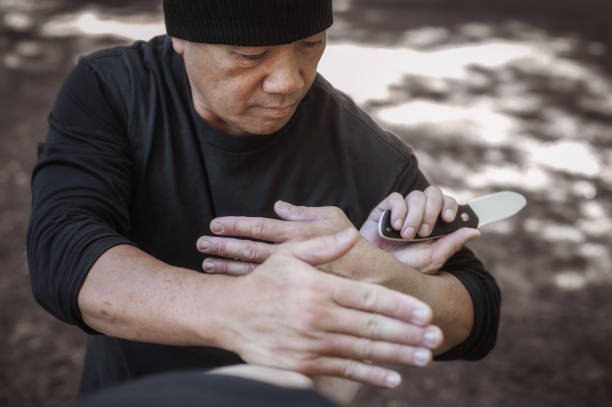knife: (380, 189, 528, 242)
